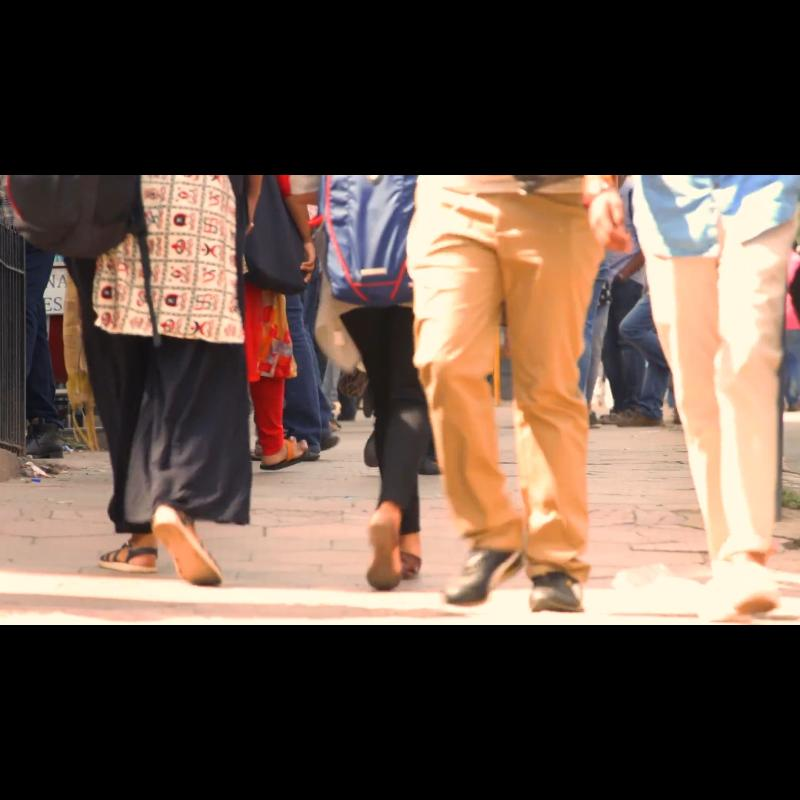Churidaar: (65, 186, 260, 502)
Pant: (413, 182, 607, 552), (639, 264, 792, 562)
